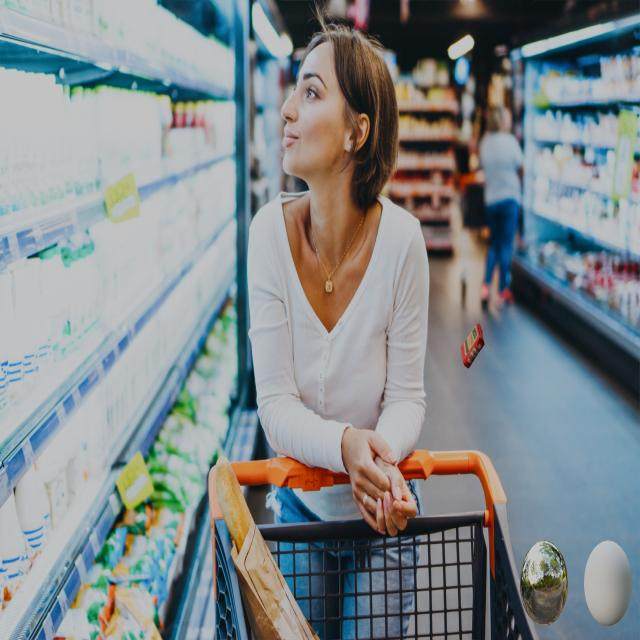mate bag: (462, 322, 484, 368)
